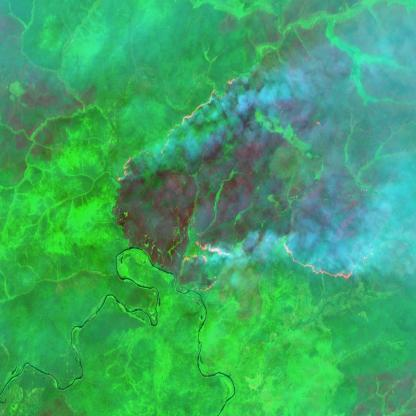fire: (171, 225, 381, 297), (114, 72, 238, 183)
